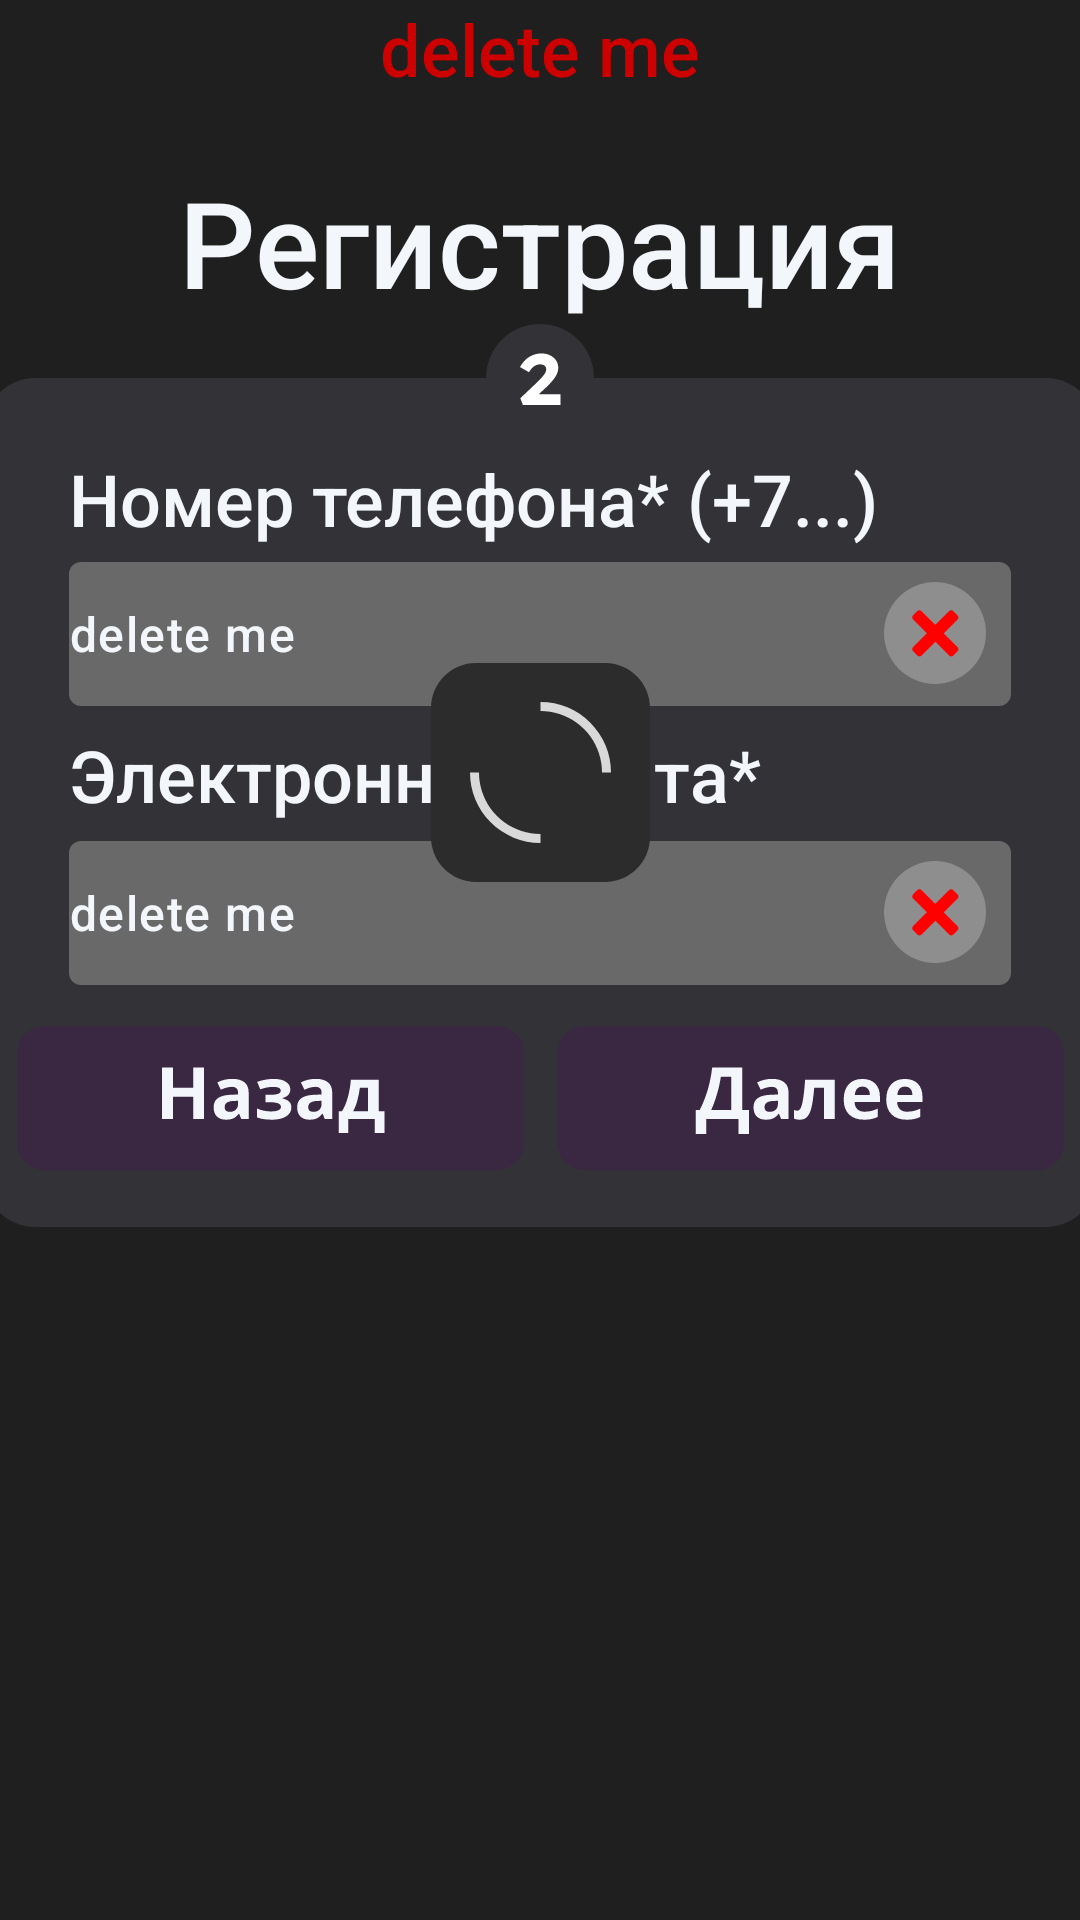

Where icons sit on this 1080 × 1920 app screen, as box(x1, y1, x2, y2):
loading anim: box(431, 663, 650, 882)
pagenumberimage: box(493, 335, 587, 405)
wronglineimage: box(884, 582, 986, 684), box(884, 861, 986, 963)
